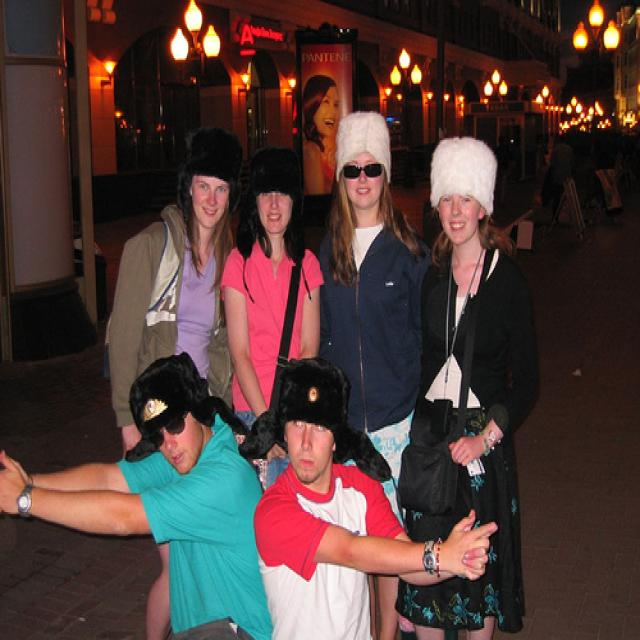person: (1, 351, 260, 639), (250, 363, 493, 639), (399, 138, 525, 640), (108, 129, 238, 441), (319, 109, 429, 459), (226, 146, 324, 414), (303, 71, 342, 197)
